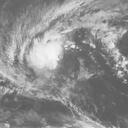cyclone: (27, 31, 62, 71)
